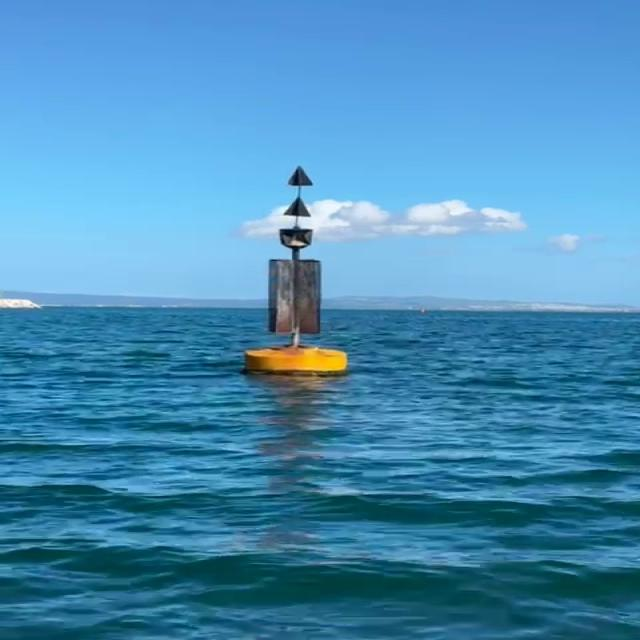marque: (245, 165, 353, 379)
